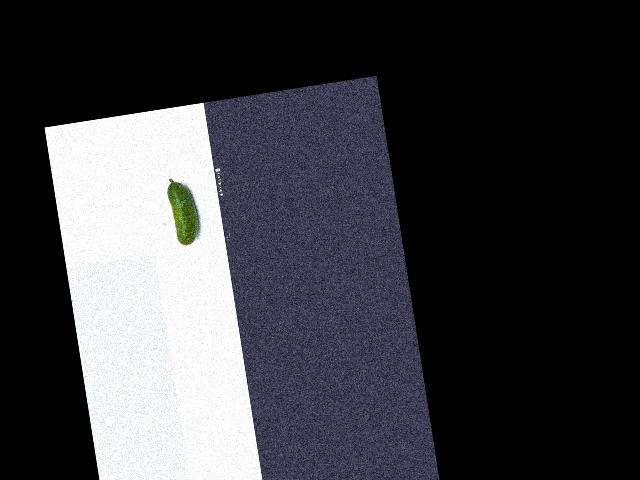cucumber: (165, 175, 201, 247)
